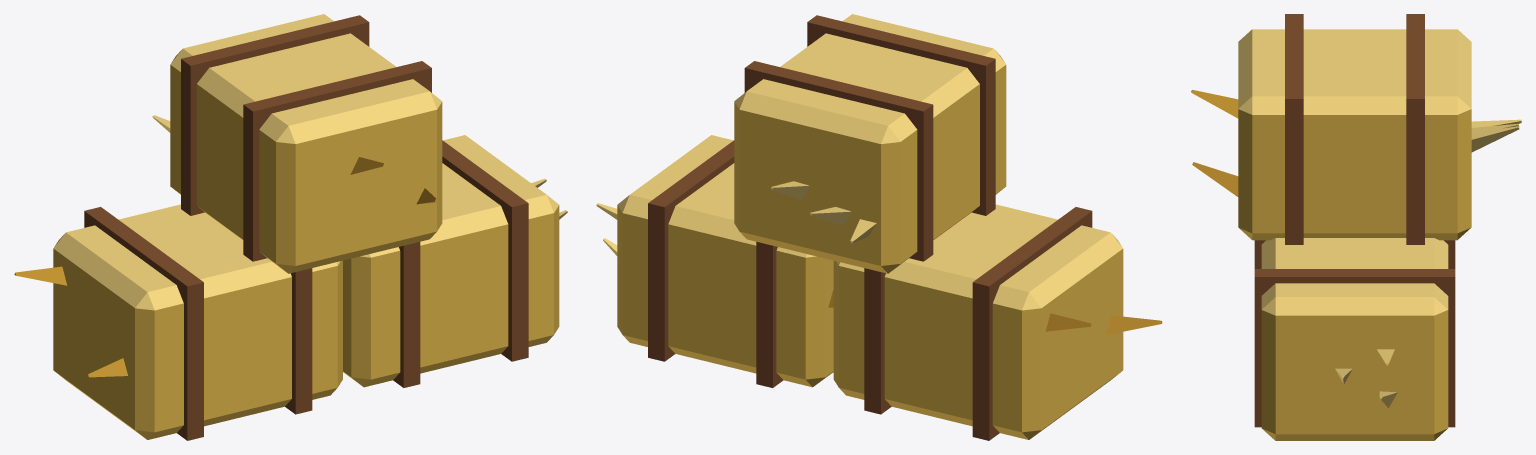
Rendered from hay-bales-1x1.glb.
The picture shows the model from 3 angles, left to right: view 1: azimuth 30°, elevation 25°; view 2: azimuth 150°, elevation 25°; view 3: azimuth 270°, elevation 25°; orthographic projection. The views are drawn at different scales.
Parts seen in each view (by area): view 1: hay-bales-1x1; view 2: hay-bales-1x1; view 3: hay-bales-1x1.
Part boxes in pixels (x1,y1,x2,y2): hay-bales-1x1: (14, 14, 567, 440); hay-bales-1x1: (596, 14, 1162, 440); hay-bales-1x1: (1191, 14, 1521, 440).
Bounding box in the file's own units: 0.9 × 0.4994 × 0.5164.
1 material, 1 textured.
